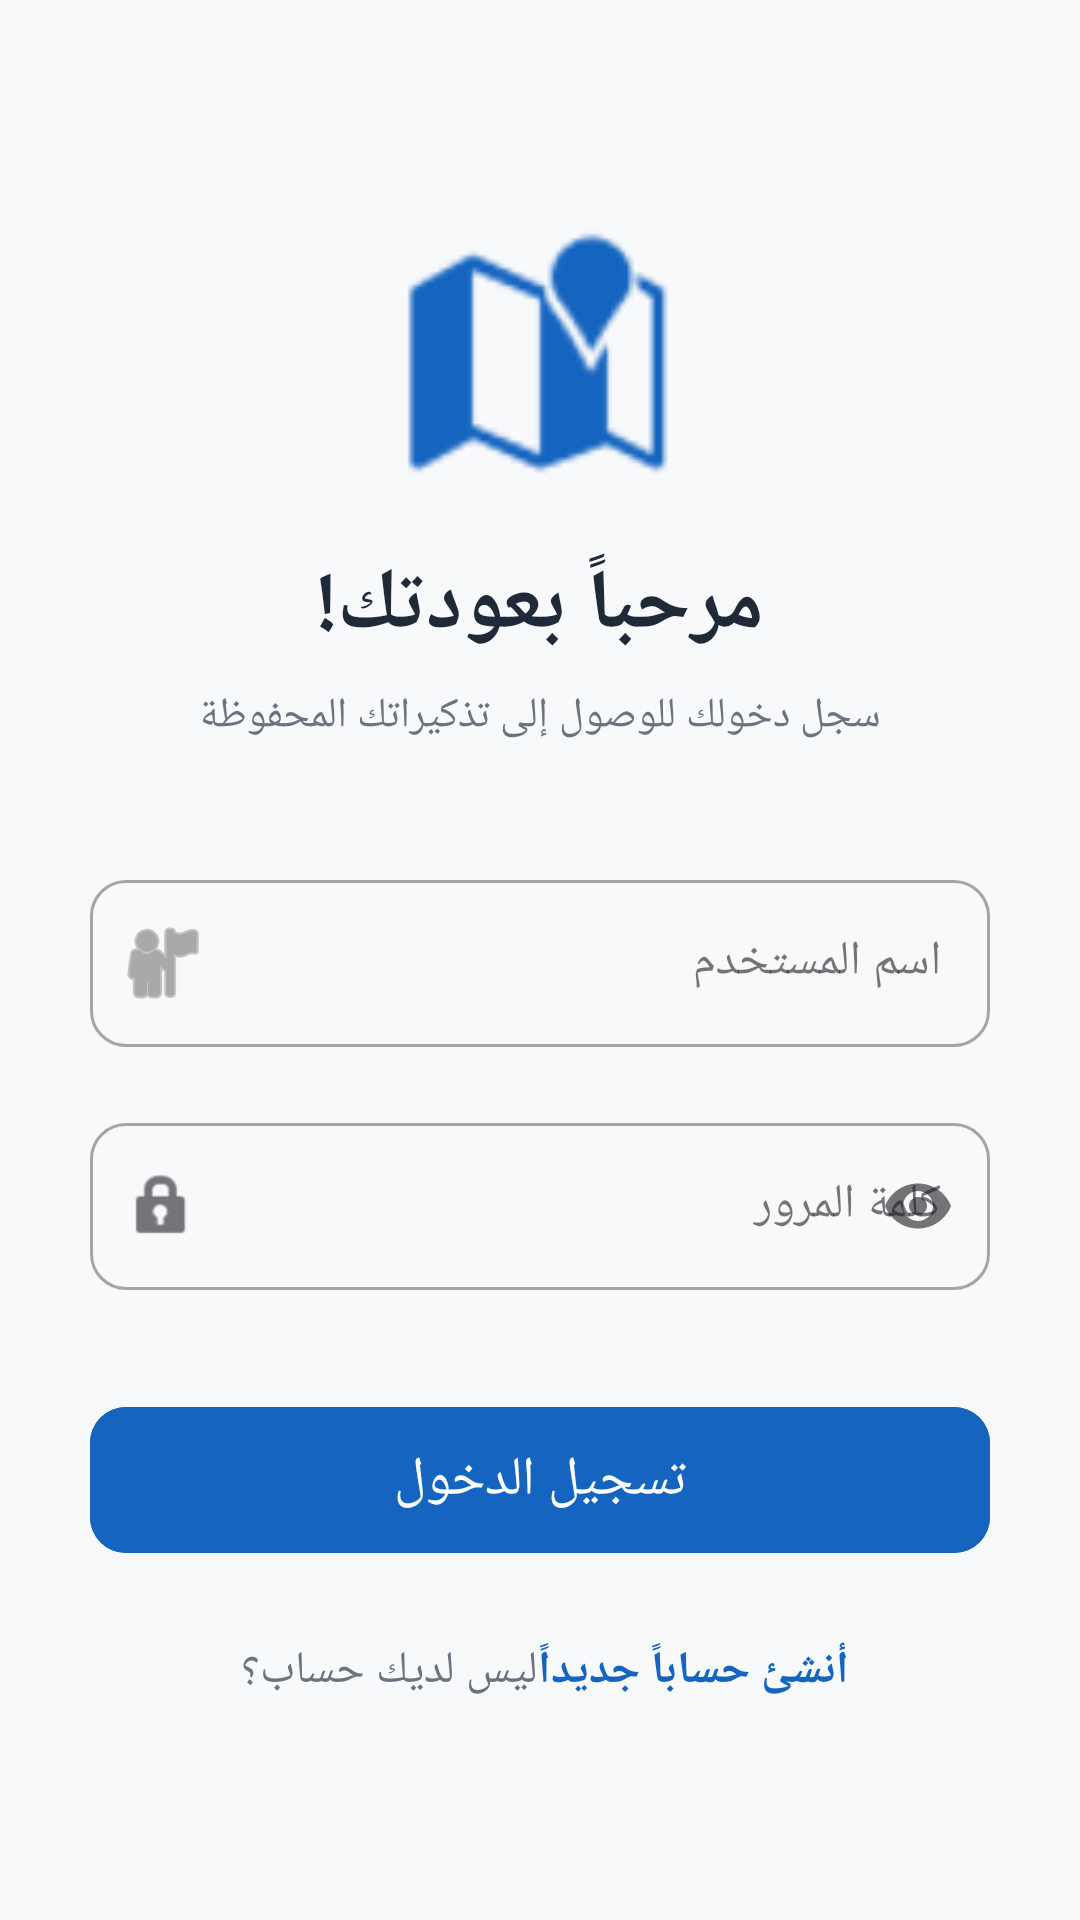

Named icons in this screenshot (1080×1920) and their centers, (x=x, y=y):
map: (x=537, y=353)
